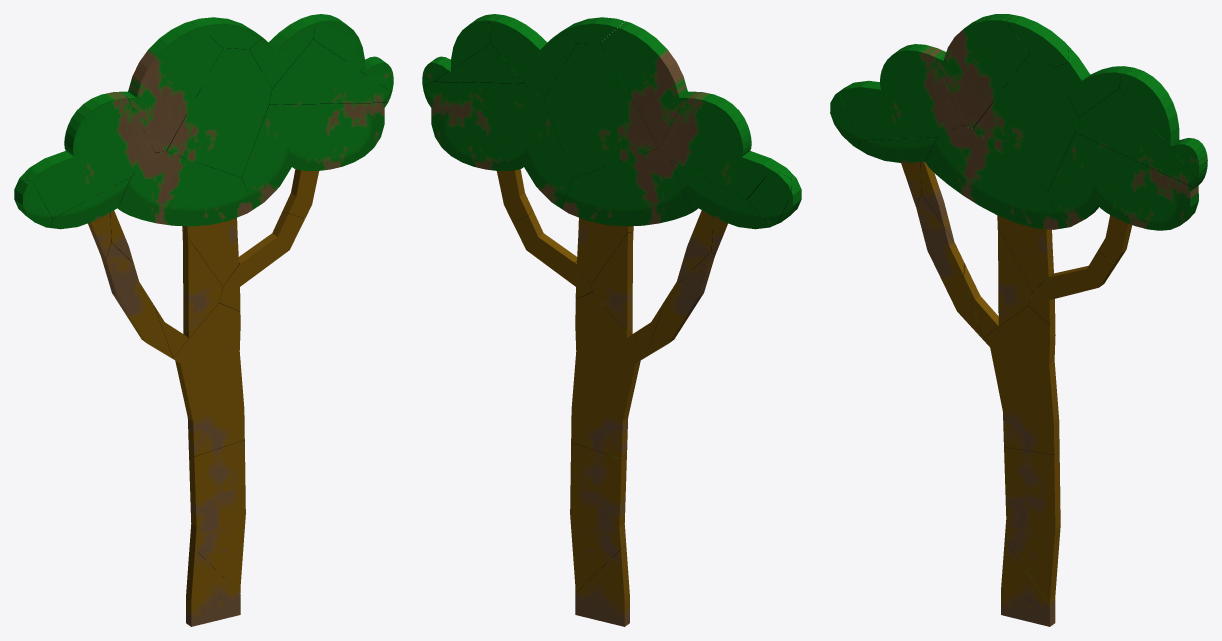
Rendered from Arbol2.fbx.
The picture shows the model from 3 angles, left to right: view 1: azimuth 30°, elevation 25°; view 2: azimuth 150°, elevation 25°; view 3: azimuth 330°, elevation 25°; orthographic projection.
Visible parts, largest first — view 1: arbol 2_cell.003, arbol 2_cell.008, arbol 2_cell.013, arbol 2.001_cell, arbol 2_cell.001, arbol 2_cell, arbol 2.001_cell.011, arbol 2_cell.009, arbol 2.001_cell.010, arbol 2.001_cell.004, arbol 2.001_cell.002, arbol 2.001_cell.001 (+9 smaller); view 2: arbol 2_cell.003, arbol 2_cell.013, arbol 2.001_cell, arbol 2_cell.008, arbol 2_cell.001, arbol 2.001_cell.011, arbol 2_cell, arbol 2_cell.006, arbol 2.001_cell.010, arbol 2.001_cell.002, arbol 2_cell.007, arbol 2.001_cell.004 (+8 smaller); view 3: arbol 2_cell.003, arbol 2.001_cell, arbol 2_cell.013, arbol 2_cell.008, arbol 2_cell.001, arbol 2.001_cell.011, arbol 2_cell, arbol 2_cell.009, arbol 2_cell.010, arbol 2.001_cell.004, arbol 2.001_cell.010, arbol 2.001_cell.002 (+9 smaller).
Part boxes in pixels (x1=…): arbol 2_cell.003: x1=241, y1=102, x2=387, y2=208; arbol 2_cell.008: x1=26, y1=91, x2=155, y2=218; arbol 2_cell.013: x1=166, y1=48, x2=271, y2=177; arbol 2.001_cell: x1=172, y1=302, x2=244, y2=456; arbol 2_cell.001: x1=117, y1=151, x2=253, y2=226; arbol 2_cell: x1=123, y1=21, x2=222, y2=152; arbol 2.001_cell.011: x1=189, y1=440, x2=245, y2=593; arbol 2_cell.009: x1=269, y1=39, x2=391, y2=104; arbol 2.001_cell.010: x1=154, y1=228, x2=222, y2=357; arbol 2.001_cell.004: x1=98, y1=243, x2=172, y2=358; arbol 2.001_cell.002: x1=186, y1=545, x2=240, y2=626; arbol 2.001_cell.001: x1=219, y1=212, x2=304, y2=311; arbol 2_cell.003: x1=423, y1=82, x2=572, y2=208; arbol 2_cell.013: x1=544, y1=42, x2=658, y2=177; arbol 2.001_cell: x1=571, y1=292, x2=646, y2=458; arbol 2_cell.008: x1=659, y1=92, x2=792, y2=199; arbol 2_cell.001: x1=561, y1=148, x2=692, y2=226; arbol 2.001_cell.011: x1=570, y1=442, x2=626, y2=592; arbol 2_cell: x1=600, y1=21, x2=695, y2=147; arbol 2_cell.006: x1=488, y1=16, x2=576, y2=99; arbol 2.001_cell.010: x1=591, y1=232, x2=666, y2=355; arbol 2.001_cell.002: x1=575, y1=546, x2=629, y2=626; arbol 2_cell.007: x1=670, y1=160, x2=772, y2=229; arbol 2.001_cell.004: x1=646, y1=251, x2=715, y2=356; arbol 2_cell.003: x1=1048, y1=132, x2=1207, y2=230; arbol 2.001_cell: x1=982, y1=305, x2=1059, y2=454; arbol 2_cell.013: x1=973, y1=53, x2=1078, y2=190; arbol 2_cell.008: x1=839, y1=44, x2=961, y2=140; arbol 2_cell.001: x1=925, y1=124, x2=1060, y2=229; arbol 2.001_cell.011: x1=1004, y1=447, x2=1060, y2=605; arbol 2_cell: x1=935, y1=14, x2=1029, y2=128; arbol 2_cell.009: x1=1075, y1=88, x2=1202, y2=187; arbol 2_cell.010: x1=1119, y1=70, x2=1207, y2=179; arbol 2.001_cell.004: x1=916, y1=194, x2=982, y2=338; arbol 2.001_cell.010: x1=964, y1=226, x2=1032, y2=337; arbol 2.001_cell.002: x1=1001, y1=540, x2=1055, y2=626.
Size of the model in its own units: 440 by 680 by 17.73.
